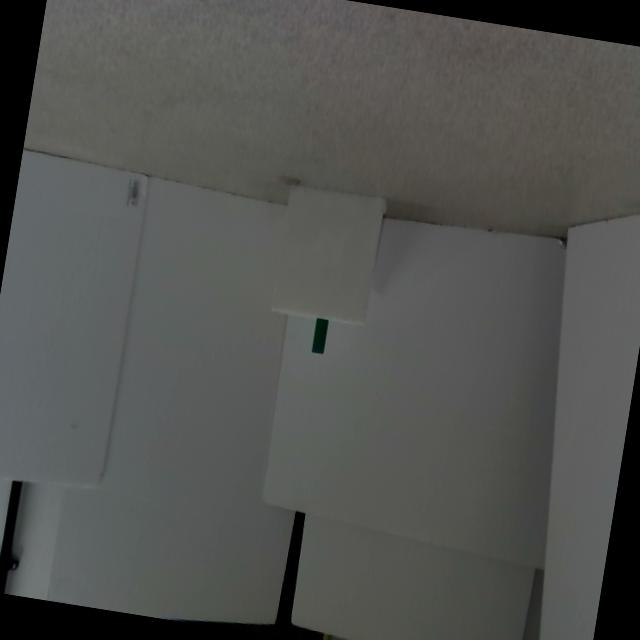green_cylinder: (312, 318, 329, 355)
